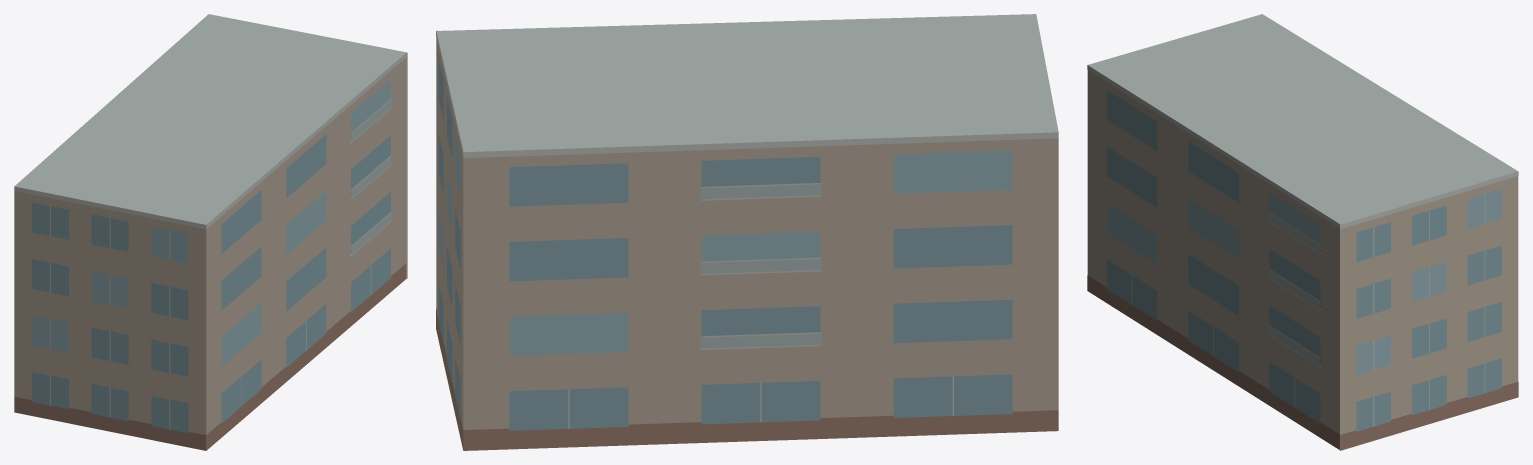
File: survey-upis-32774604.glb
3 renders of one model, left to right at view 1: azimuth 30°, elevation 25°; view 2: azimuth 150°, elevation 25°; view 3: azimuth 270°, elevation 25°, orthographic. The views are drawn at different scales.
Visible parts, largest first — view 1: survey-upis-32774604.tmp; view 2: survey-upis-32774604.tmp; view 3: survey-upis-32774604.tmp.
Part boxes in pixels (x1=…): survey-upis-32774604.tmp: x1=14, y1=14, x2=407, y2=450; survey-upis-32774604.tmp: x1=436, y1=14, x2=1058, y2=450; survey-upis-32774604.tmp: x1=1087, y1=14, x2=1518, y2=450.
Size of the model in its own units: 24.32 by 12.15 by 21.
